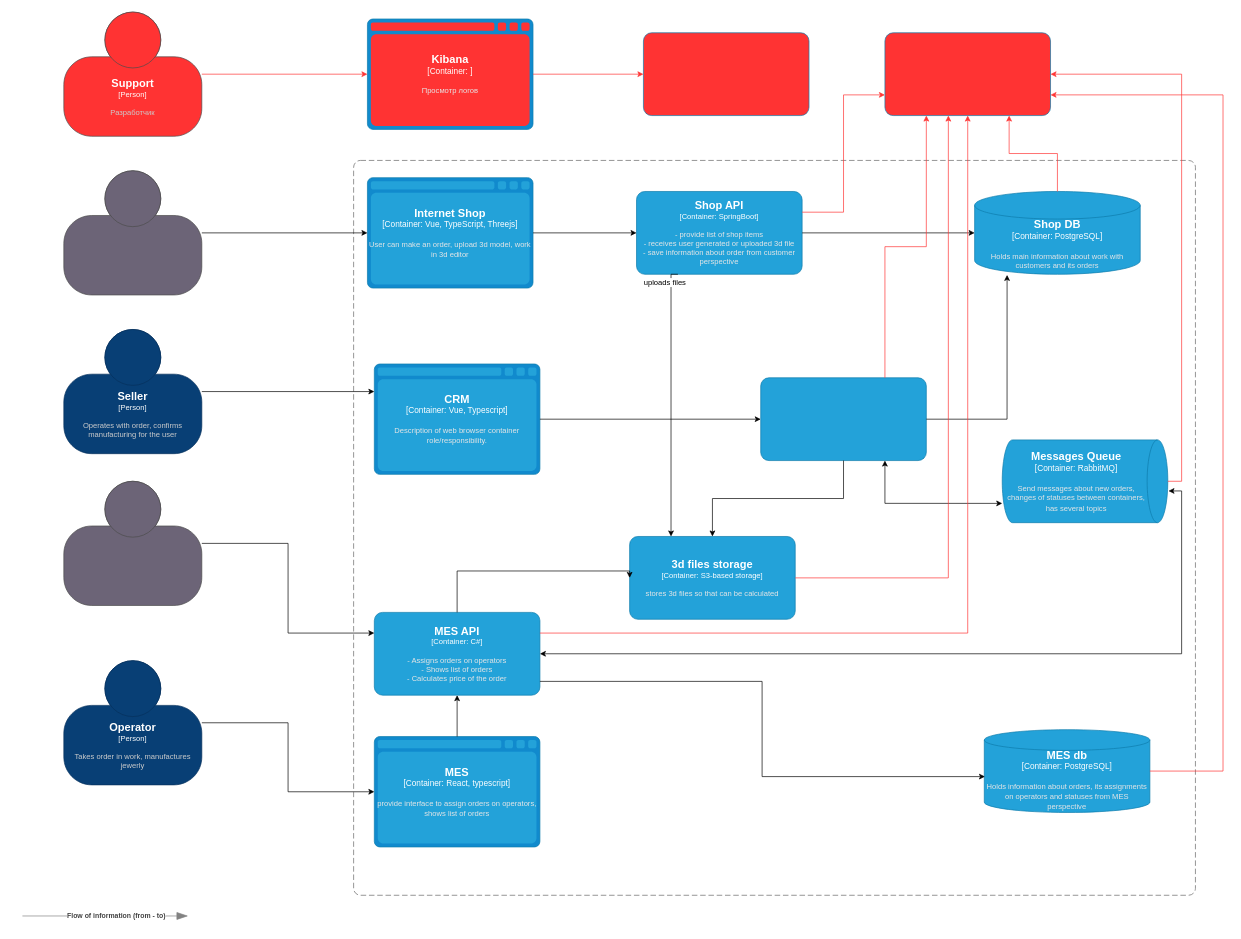
The diagram is 1241 pixels wide and 939 high, and some of its shapes have lost their labels. Here are the shapes that lost their labels. From the top down, the box of each, then its label:
(643, 32, 809, 116): OpenSearch [Container: ] Хранение логов
(884, 32, 1051, 116): LogStash [Container: ] Обработка логов
(63, 170, 202, 295): Customer [Person] Description of external person.
(760, 377, 926, 461): CRM API [Container: SpringBoot] Description of container role/responsibility.
(63, 481, 202, 605): API user [Person] Description of external person.
(353, 160, 1195, 895): Jewerly Store System [Software System]
